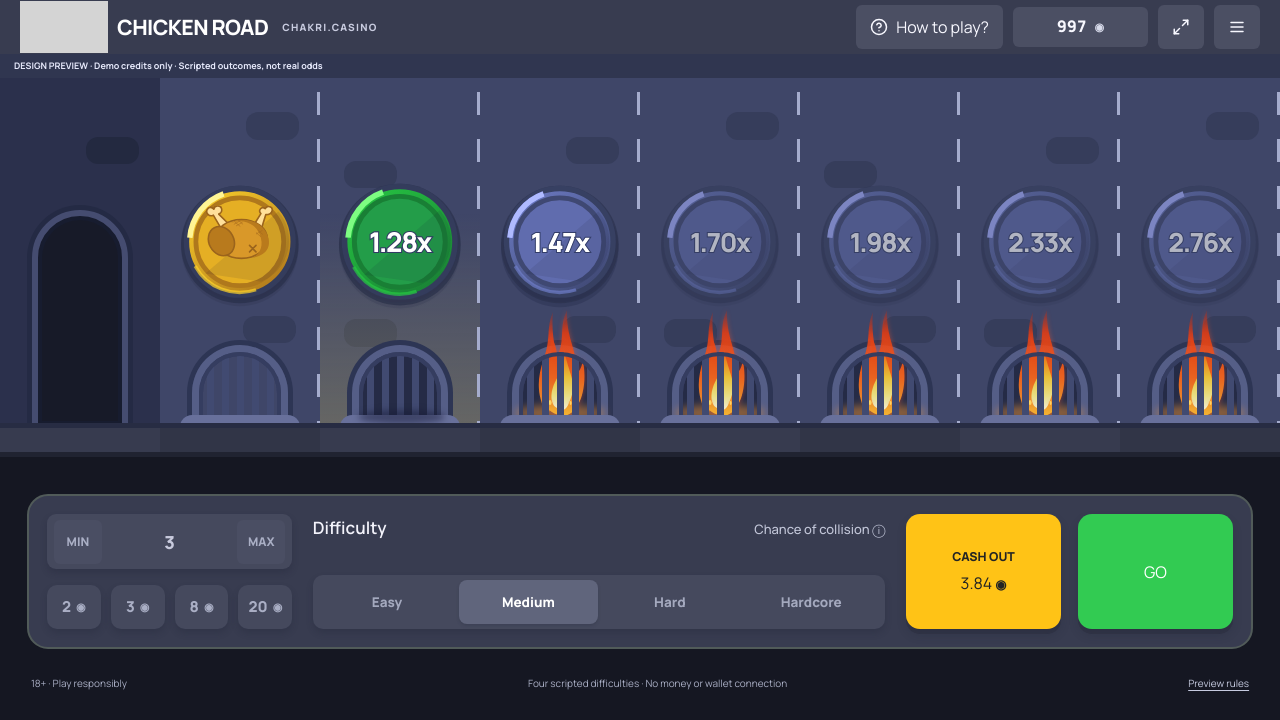
Test case: scripted lane-six collision renders the crash, the next first hop crashes, and a third round can start
The width and height of the screenshot is (1280, 720).
Earlier steps of the test are not shown.
Later steps or results of the test are not shown.
Click the button with test id "road-go" at (1155, 572), box [1078,514,1233,629]
Wait 480 ms
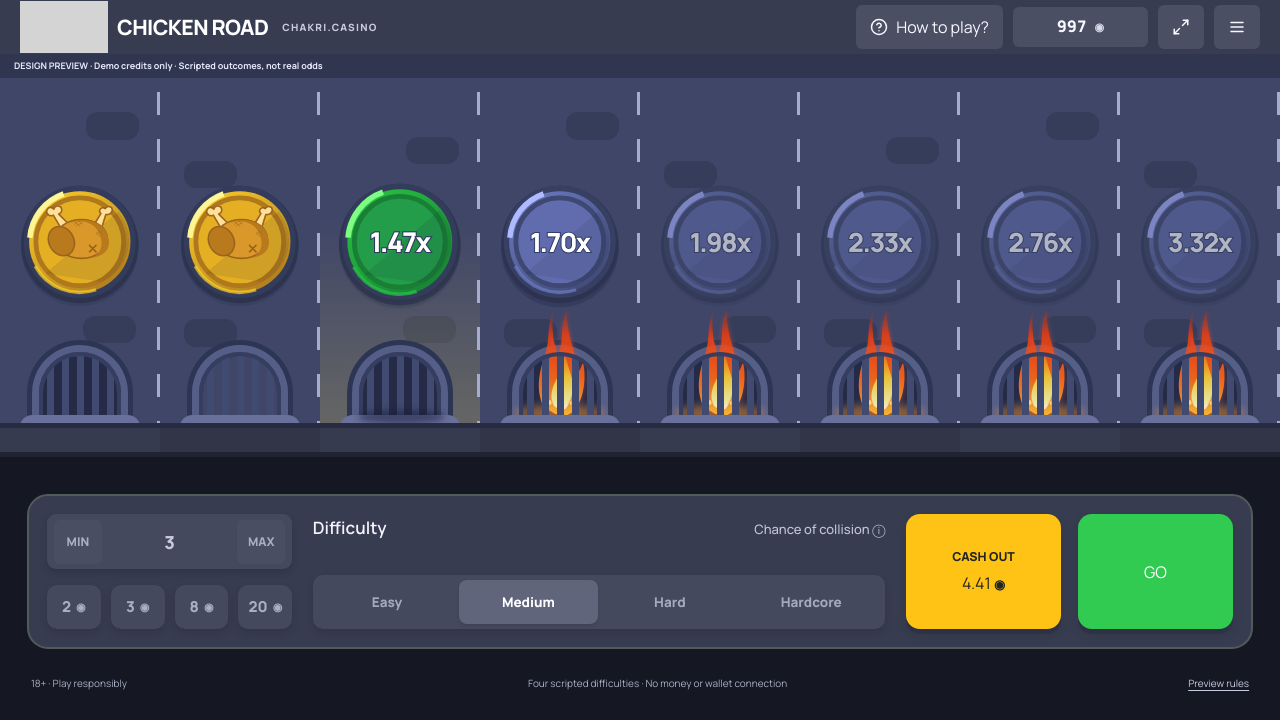
Click the button with test id "road-go" at (1155, 572), box [1078,514,1233,629]
Wait 480 ms
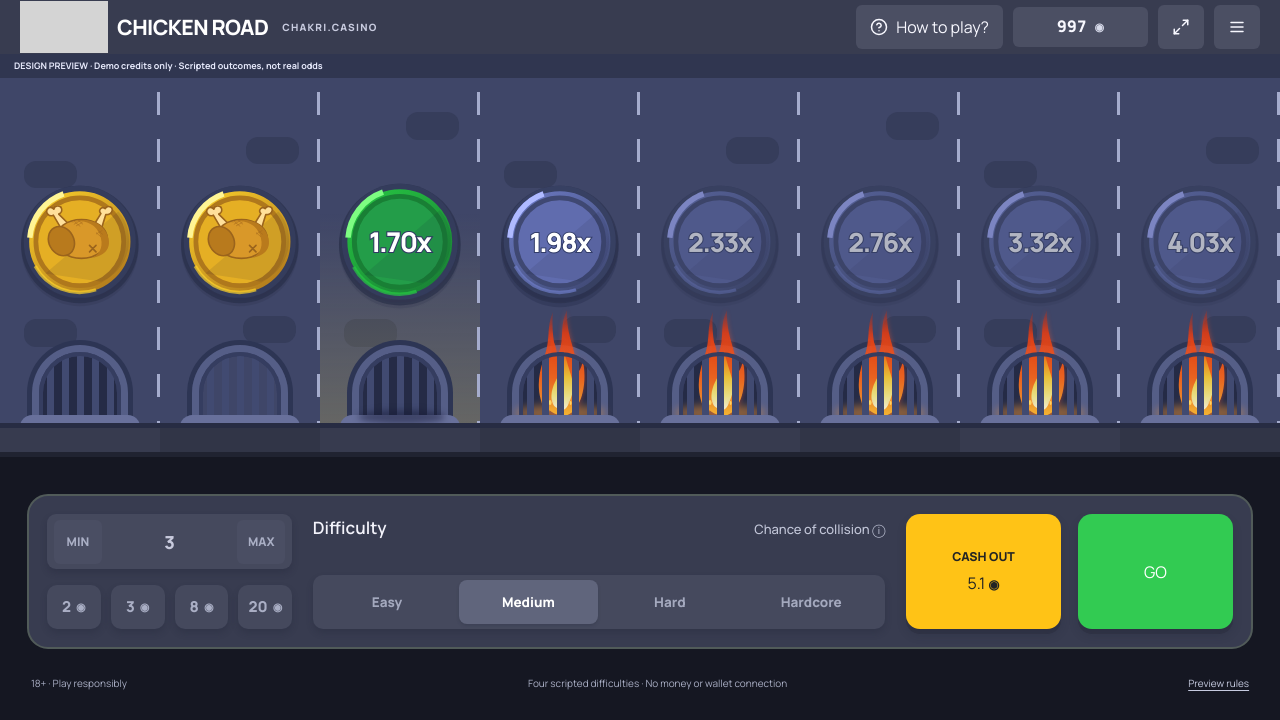
Click the button with test id "road-go" at (1155, 572), box [1078,514,1233,629]
Wait 480 ms
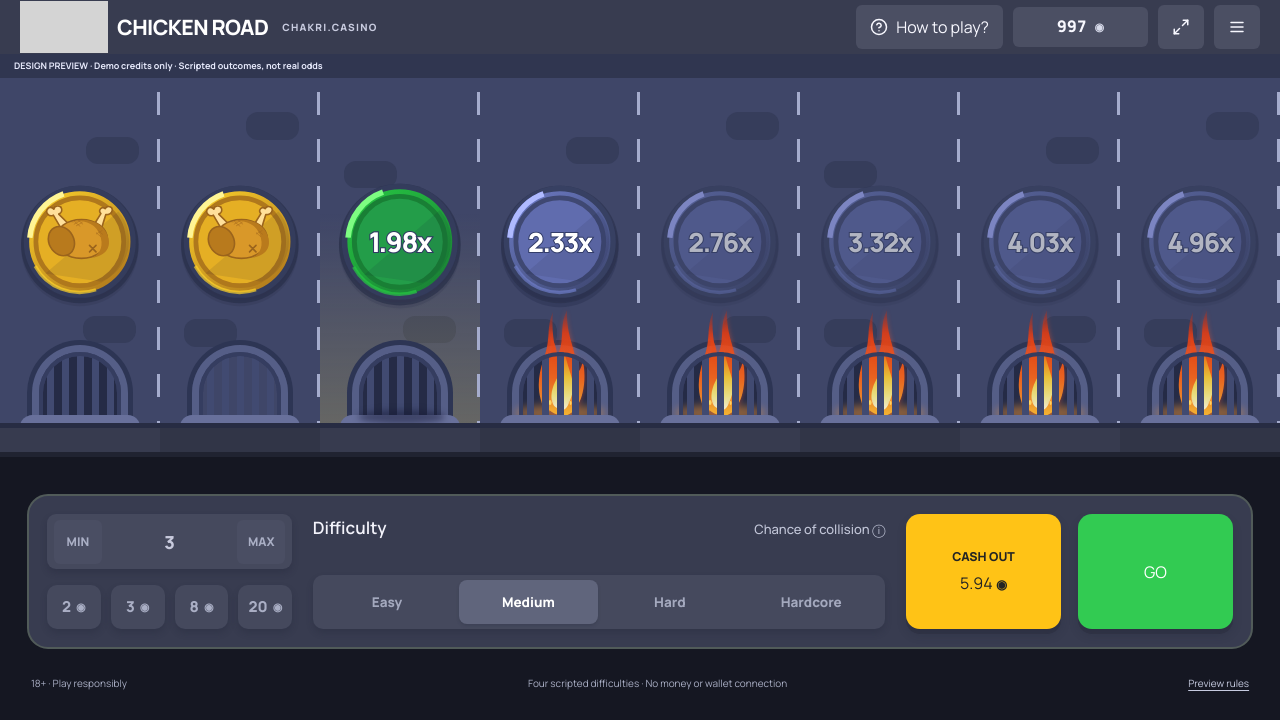
Click the button with test id "road-go" at (1155, 572), box [1078,514,1233,629]
Wait 480 ms
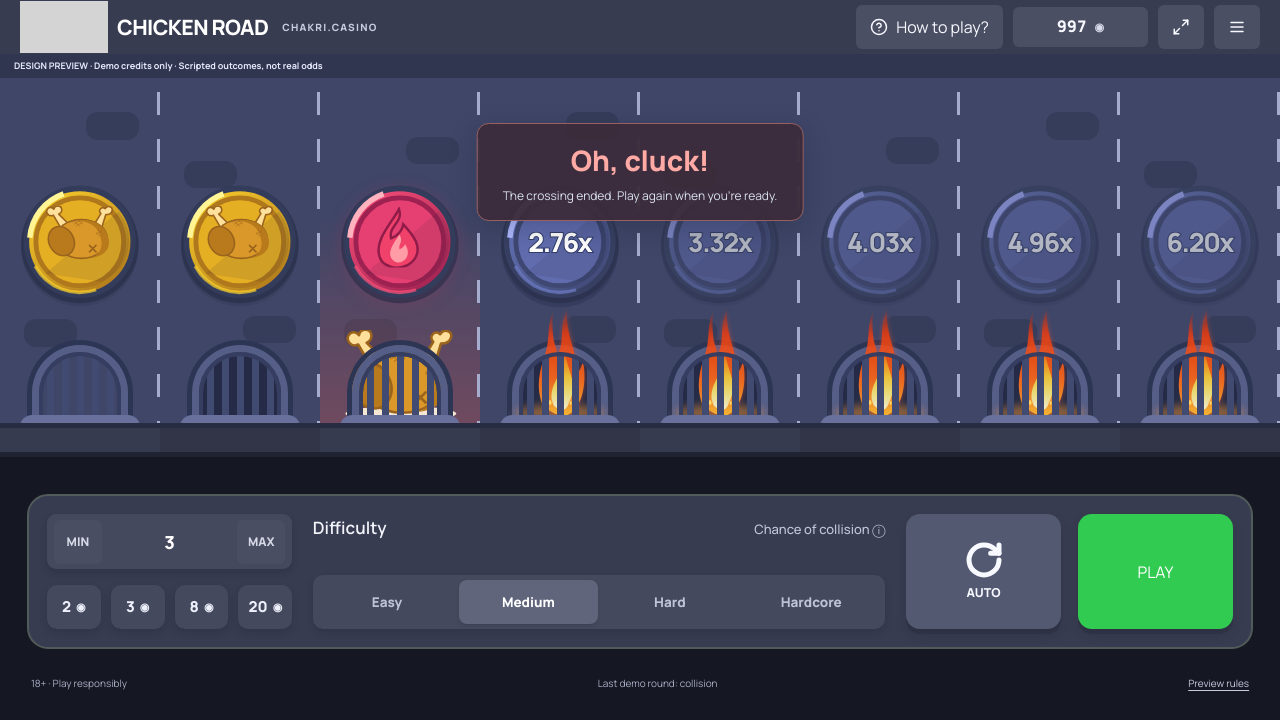
Check: the picture named "Roasted chicken after a collision" is shown, box [336,330,464,424]
Check: the message "Oh, cluck! The crossing ended. Play again when you’re ready." is shown, box [477,123,803,221]
Click the button with test id "road-go" at (1155, 572), box [1078,514,1233,629]
Wait 480 ms
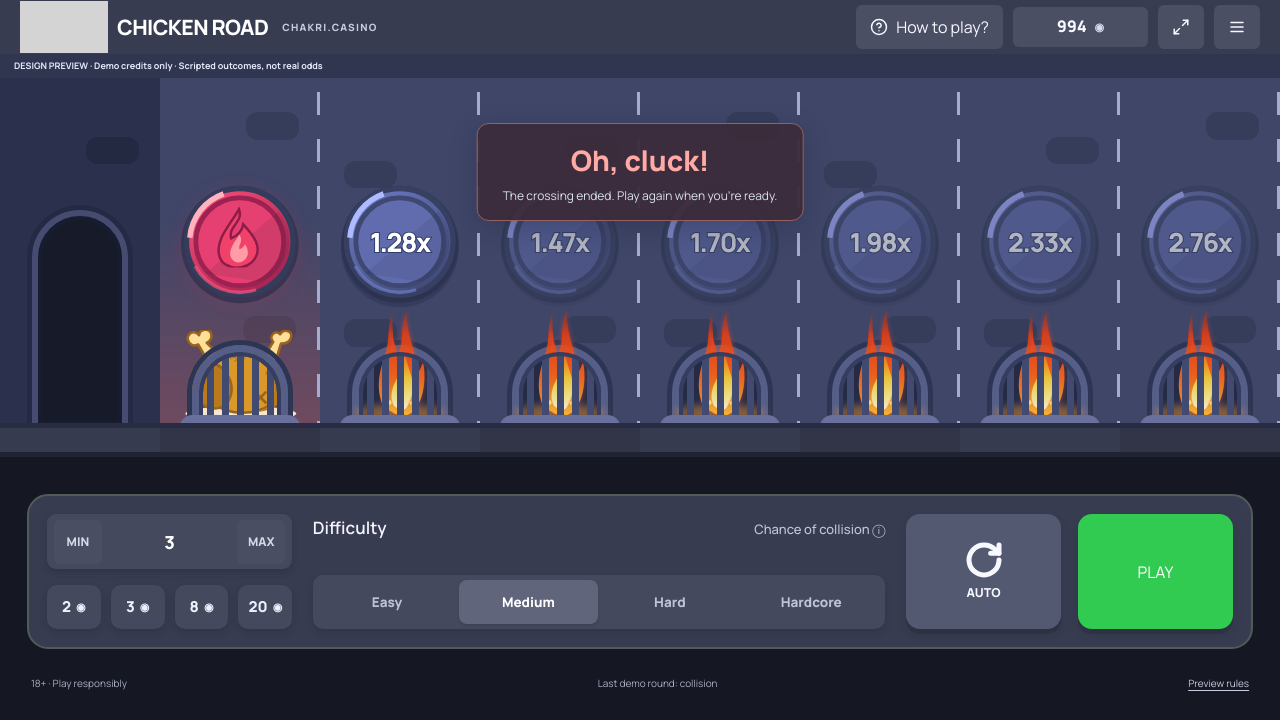
Click the button with test id "road-go" at (1155, 572), box [1078,514,1233,629]
Wait 480 ms
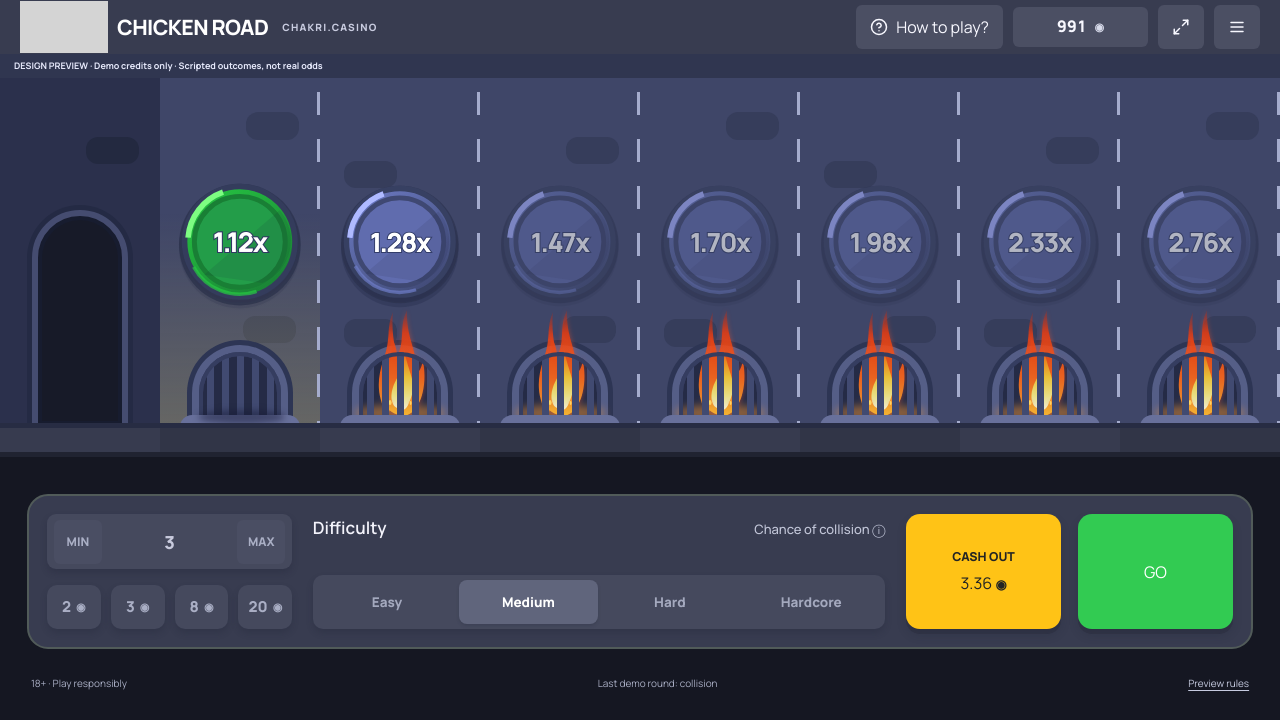
Check: the picture named "1.12 times, current multiplier" is shown, box [177,179,303,305]
